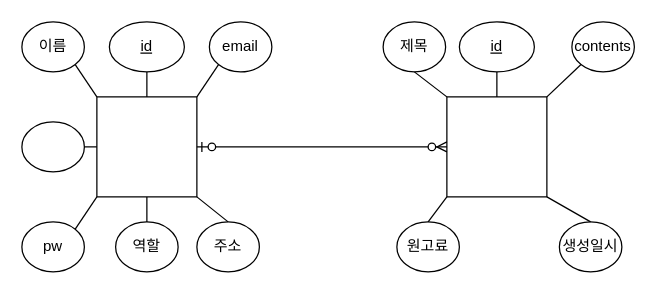
The diagram is 656 pixels wide and 294 high, and some of its shapes have lost their labels. Each missing label, with the centre of its shape:
"게시글" belongs at pixel 496 146.
"글쓴이" belongs at pixel 146 146.
"나이" belongs at pixel 52 146.
